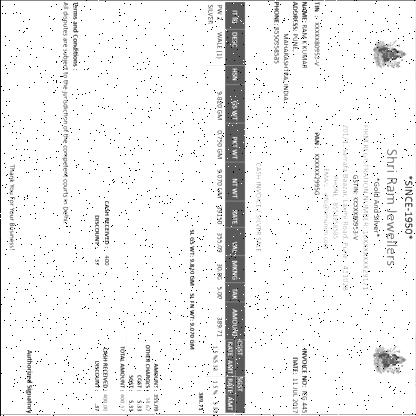Paragraph: (312, 122, 398, 292), (272, 0, 322, 102), (59, 0, 79, 224), (127, 344, 158, 412), (290, 348, 308, 414), (93, 200, 109, 267), (93, 346, 108, 413), (252, 162, 262, 254), (6, 163, 16, 251), (24, 348, 34, 414), (403, 174, 413, 240), (188, 292, 194, 350), (188, 228, 194, 286), (119, 345, 124, 412), (197, 392, 203, 412)
Table: (204, 1, 244, 414)
